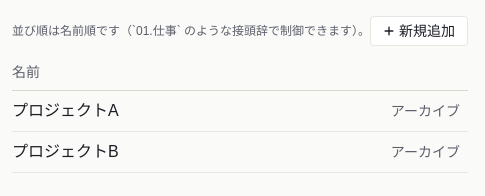
ProjectsTable（画面定義書03 §3.3: 名前とアーカイブだけの単純なCRUD） › インライン編集（画面定義書03 §4「編集方式」/ 00_共通 §2.3） › Esc でセルが閉じ、元の表示に戻る
Step 1. Click the button "プロジェクトA" → [65, 111], box x1=12 y1=99 x2=119 y2=123
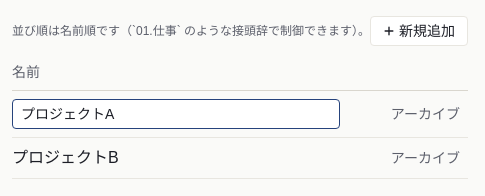
Step 2. Replace the text in the field showing "プロジェクトA" with "書きかけ" → [176, 114], box x1=12 y1=99 x2=340 y2=129
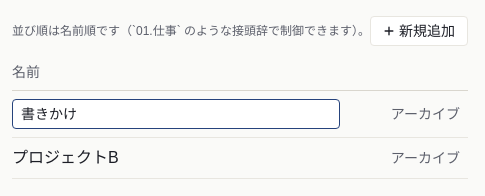
Step 3. Press Escape in the field showing "プロジェクトA", box x1=12 y1=99 x2=340 y2=129
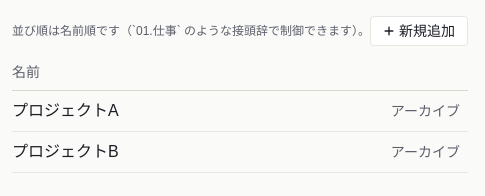
Expected: the button "プロジェクトA" is shown, x1=12 y1=99 x2=119 y2=123
